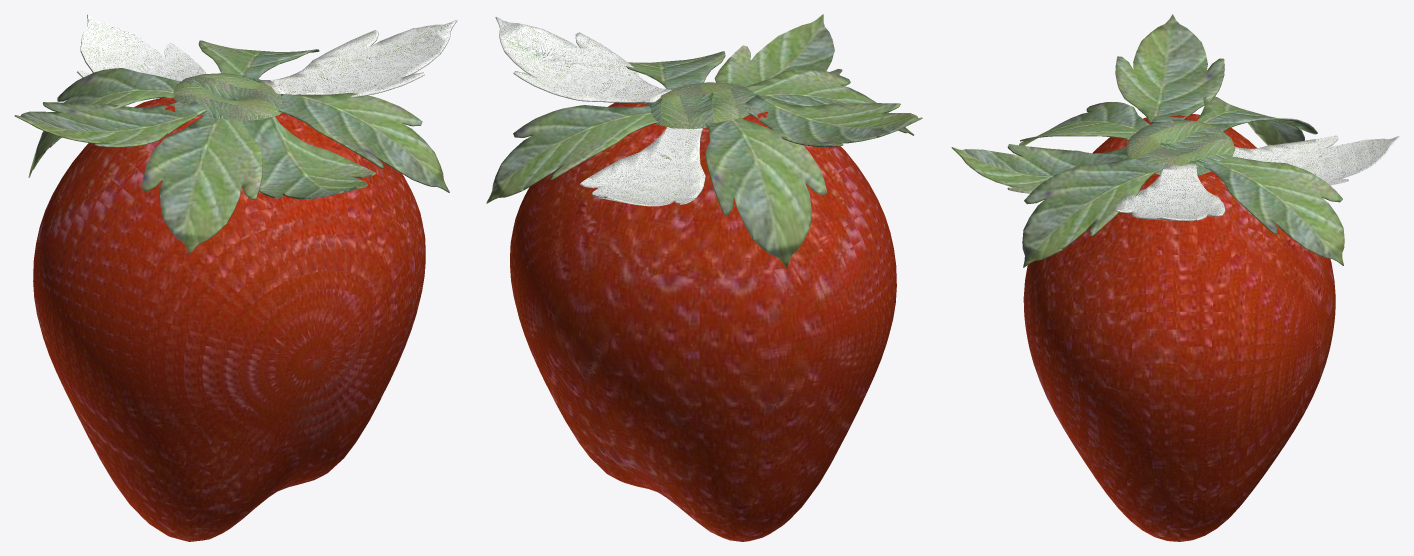
File: strawberry.dae
3 views of the same model, side by side, from view 1: azimuth 30°, elevation 25°; view 2: azimuth 150°, elevation 25°; view 3: azimuth 270°, elevation 25° (orthographic). The views are drawn at different scales.
Visible parts, largest first — view 1: straw.dxf (×10); view 2: straw.dxf (×10); view 3: straw.dxf (×10).
Boxes of the visible parts, box(x1,y1,x2,y2) form: straw.dxf (×10): box(14, 14, 457, 541); straw.dxf (×10): box(486, 14, 922, 541); straw.dxf (×10): box(951, 14, 1399, 541).
Size of the model in its own units: 286 by 276 by 290.
3 materials, 2 textured.
